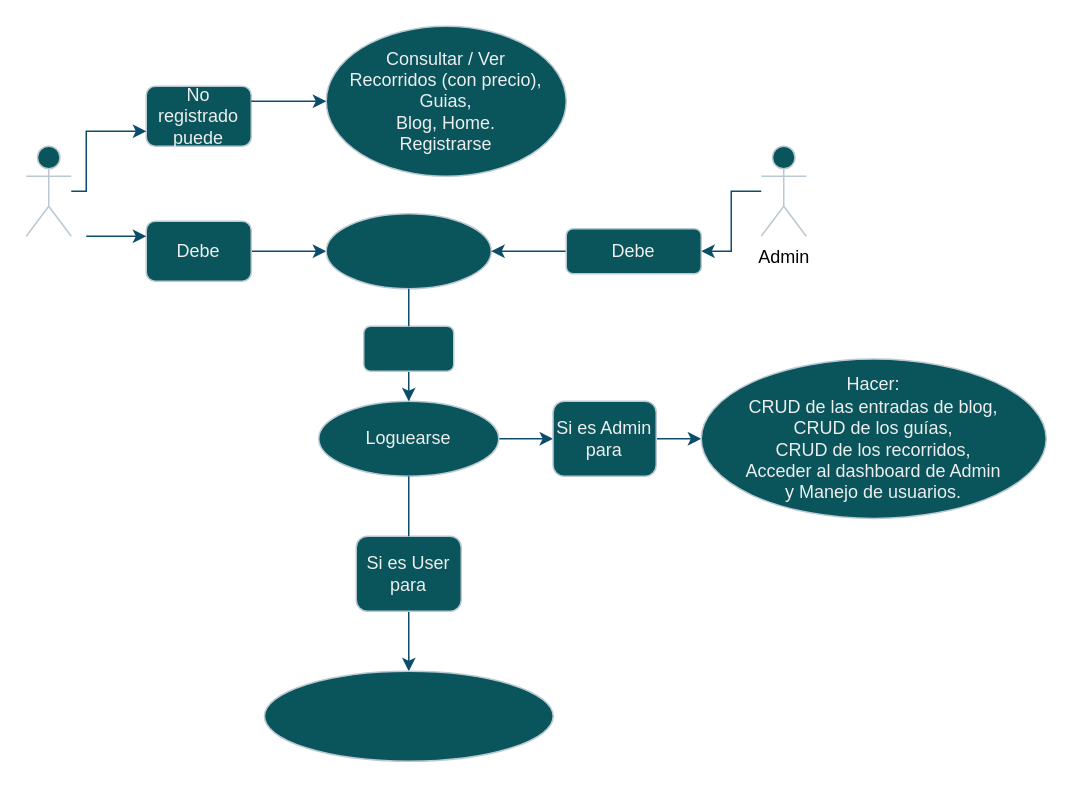
The diagram is 1073 pixels wide and 788 high, and some of its shapes have lost their labels. The shapes that lost their labels are listed below. From the top down, each one's centre as x and y in pixels, then its label:
At (48,190): "User".
At (408,250): "Registrarse".
At (408,348): "Y debe".
At (408,715): "Efectuar compra - Acceder a su dashboard- Editar sus datos personales".
